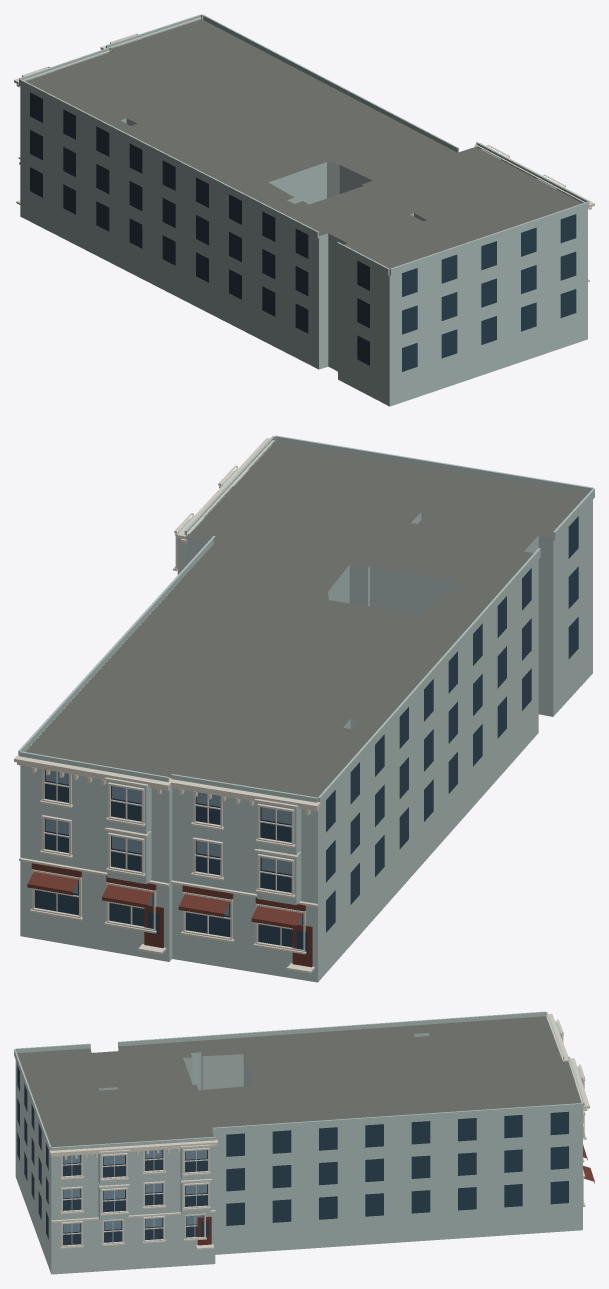
3 renders of one model, top to bottom at view 1: azimuth 30°, elevation 25°; view 2: azimuth 150°, elevation 25°; view 3: azimuth 270°, elevation 25°, orthographic. The views are drawn at different scales.
Parts seen in each view (by area): view 1: Footprint 0 / surface 2, Footprint 0 / surface 1, Inset glazing, Facade bay volumes, Cornices and window frames; view 2: Footprint 0 / surface 1, Footprint 0 / surface 2, Inset glazing, Cornices and window frames, Facade bay volumes, Storefronts and doors, Sky reflection panels; view 3: Footprint 0 / surface 2, Footprint 0 / surface 1, Inset glazing, Facade bay volumes, Cornices and window frames, Sky reflection panels, Storefronts and doors.
Boxes of the visible parts, x1,y1,x2,y2 form: Footprint 0 / surface 2: (20, 86, 587, 406); Footprint 0 / surface 1: (26, 19, 582, 268); Inset glazing: (30, 92, 576, 371); Facade bay volumes: (19, 14, 589, 275); Cornices and window frames: (14, 17, 594, 282); Footprint 0 / surface 1: (25, 442, 587, 797); Footprint 0 / surface 2: (20, 500, 592, 982); Inset glazing: (34, 516, 578, 953); Cornices and window frames: (14, 438, 320, 973); Facade bay volumes: (18, 435, 594, 905); Storefronts and doors: (27, 863, 312, 967); Sky reflection panels: (45, 770, 302, 924); Footprint 0 / surface 2: (15, 1033, 582, 1274); Footprint 0 / surface 1: (17, 1016, 581, 1147); Inset glazing: (17, 1065, 568, 1245); Facade bay volumes: (14, 1011, 584, 1220); Cornices and window frames: (49, 1013, 589, 1249); Sky reflection panels: (63, 1150, 206, 1232); Storefronts and doors: (197, 1145, 594, 1245).
Bounding box in the file's own units: 25.49 × 10.86 × 44.91.
